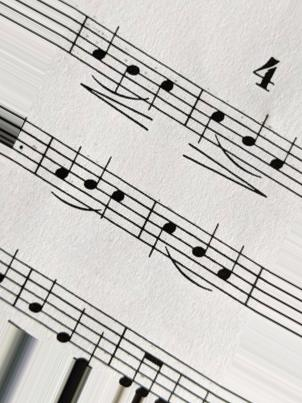A: (268, 126, 299, 196), (88, 16, 119, 85), (215, 239, 245, 303), (53, 140, 83, 204)
B: (190, 220, 222, 292), (81, 155, 113, 223), (240, 112, 269, 178), (114, 38, 141, 98)
E: (54, 284, 86, 358)
G: (26, 267, 57, 334)
HC: (145, 56, 179, 120), (145, 196, 177, 262), (194, 86, 226, 151), (100, 167, 127, 233)
